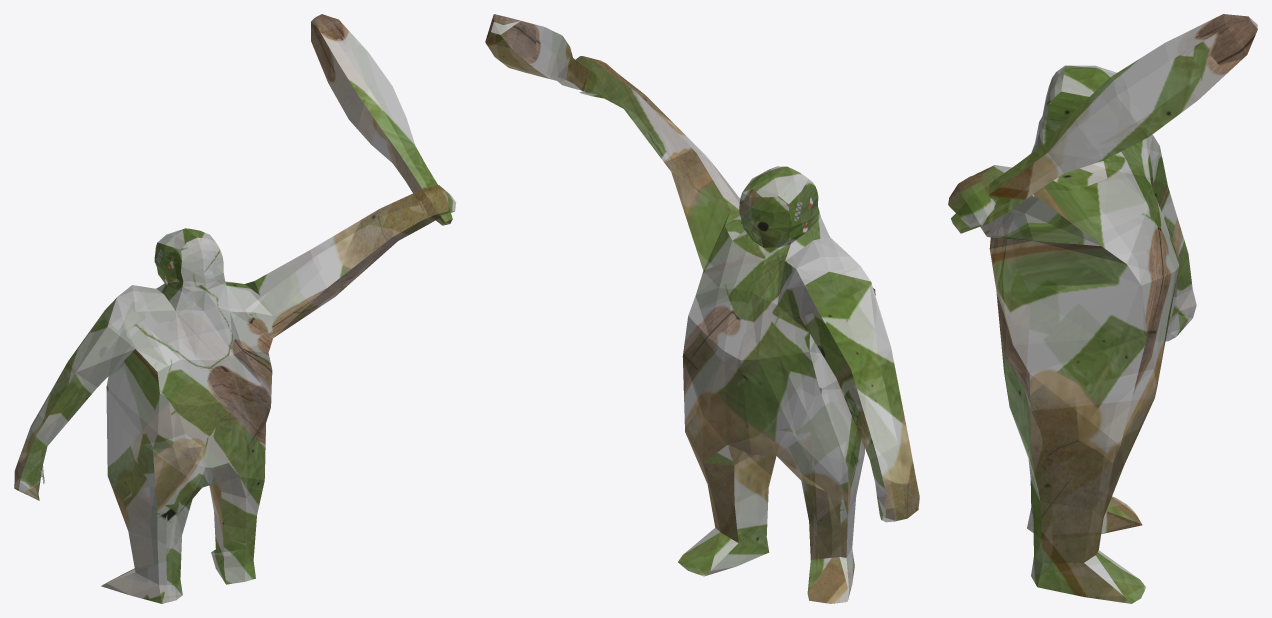
File: Enemigo212.obj
3 renders of one model, left to right at view 1: azimuth 30°, elevation 25°; view 2: azimuth 150°, elevation 25°; view 3: azimuth 270°, elevation 25°, orthographic. The views are drawn at different scales.
Visible parts, largest first — view 1: Cube; view 2: Cube; view 3: Cube.
Part boxes in pixels (box(x1,y1,x2,y2)): Cube: box(14, 14, 456, 603); Cube: box(485, 14, 919, 603); Cube: box(948, 14, 1257, 603).
Size of the model in its own units: 3.03 by 3.68 by 1.54.
Materials: 1 (1 with a texture image).
